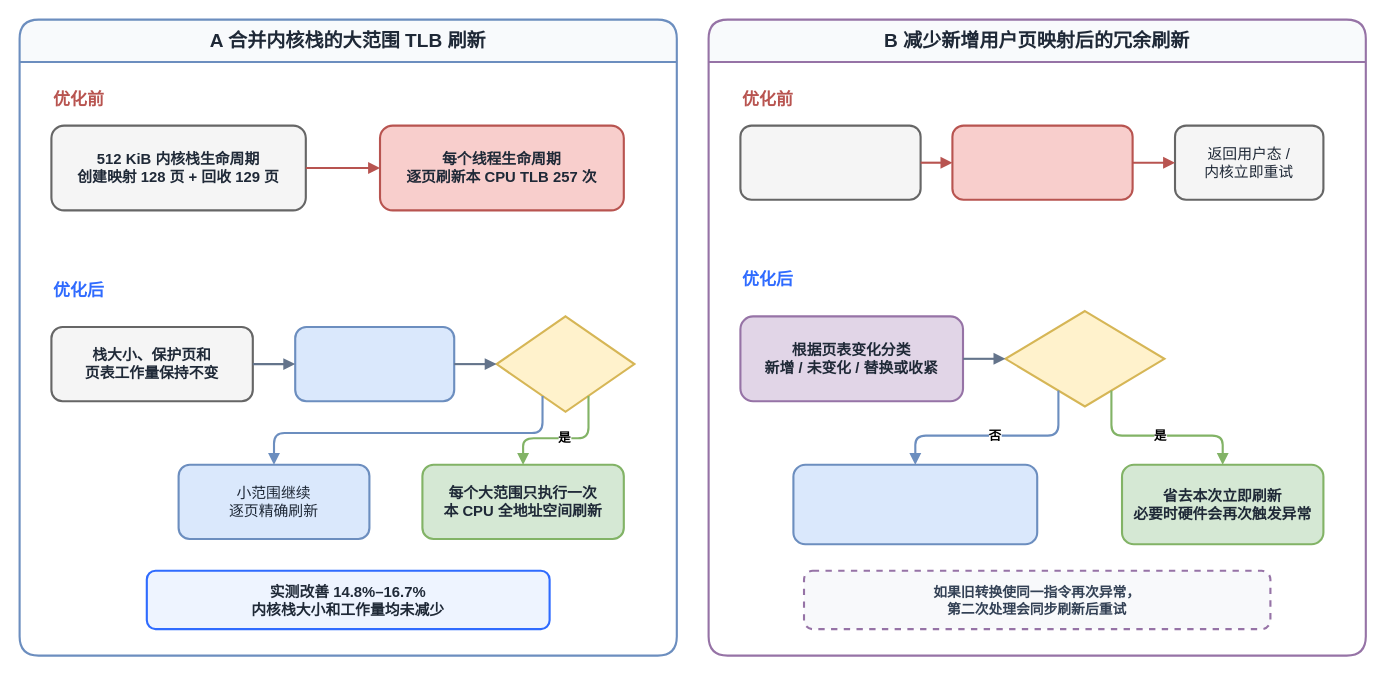
Image size: 1384x674. Some labels were removed from this diagram. Each missing label, with the centre of its shape:
"一律立即刷新 本 CPU 的 TLB" belongs at pixel 1042 162.
"其它情况同步刷新 替换 · 收紧权限 · 立即重试" belongs at pixel 915 504.
"由架构分页层统一处理 一段地址范围" belongs at pixel 374 363.
"真实用户缺页 建立一个页表项" belongs at pixel 830 162.
"超过大范围阈值？" belongs at pixel 565 363.
"首次新增映射且 即将返回用户态？" belongs at pixel 1084 358.
